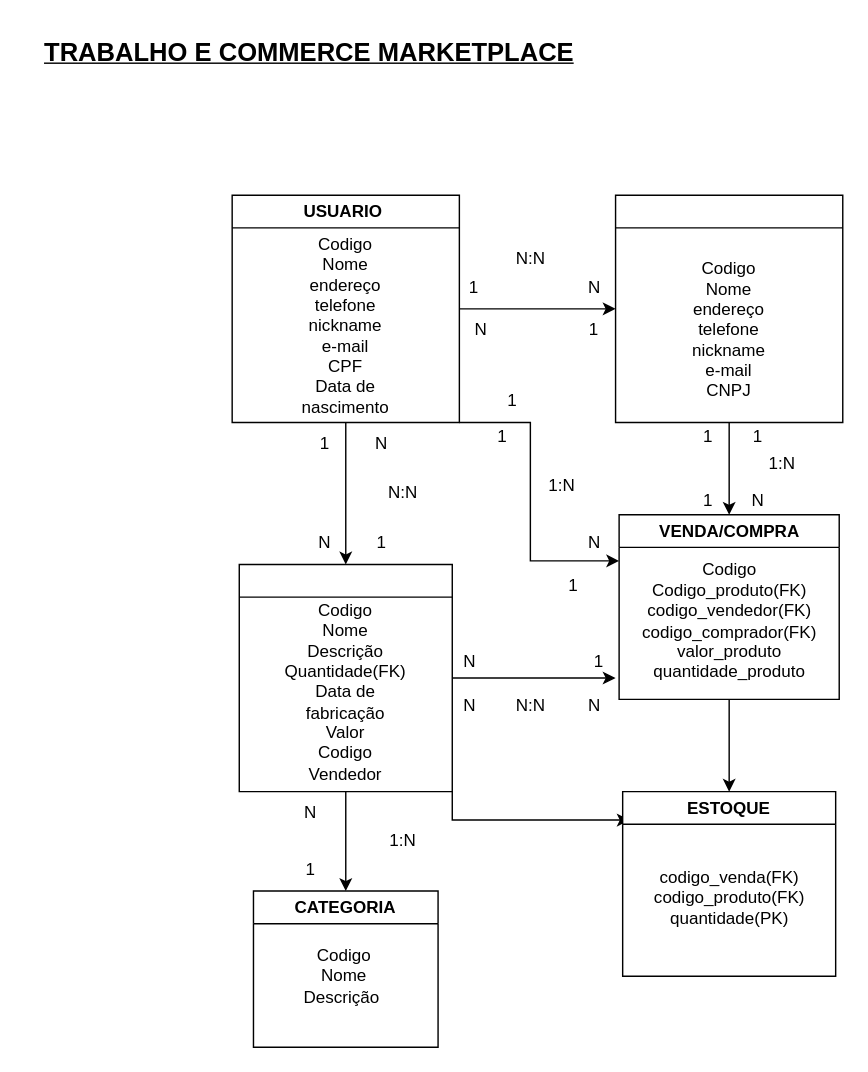
This 868x1072 diagram has some shape labels left out. Here are the shapes that lost their labels. From the top down, the box of each, then its label:
(614, 194, 843, 422): VENDEDOR
(238, 563, 452, 792): PRODUTO
